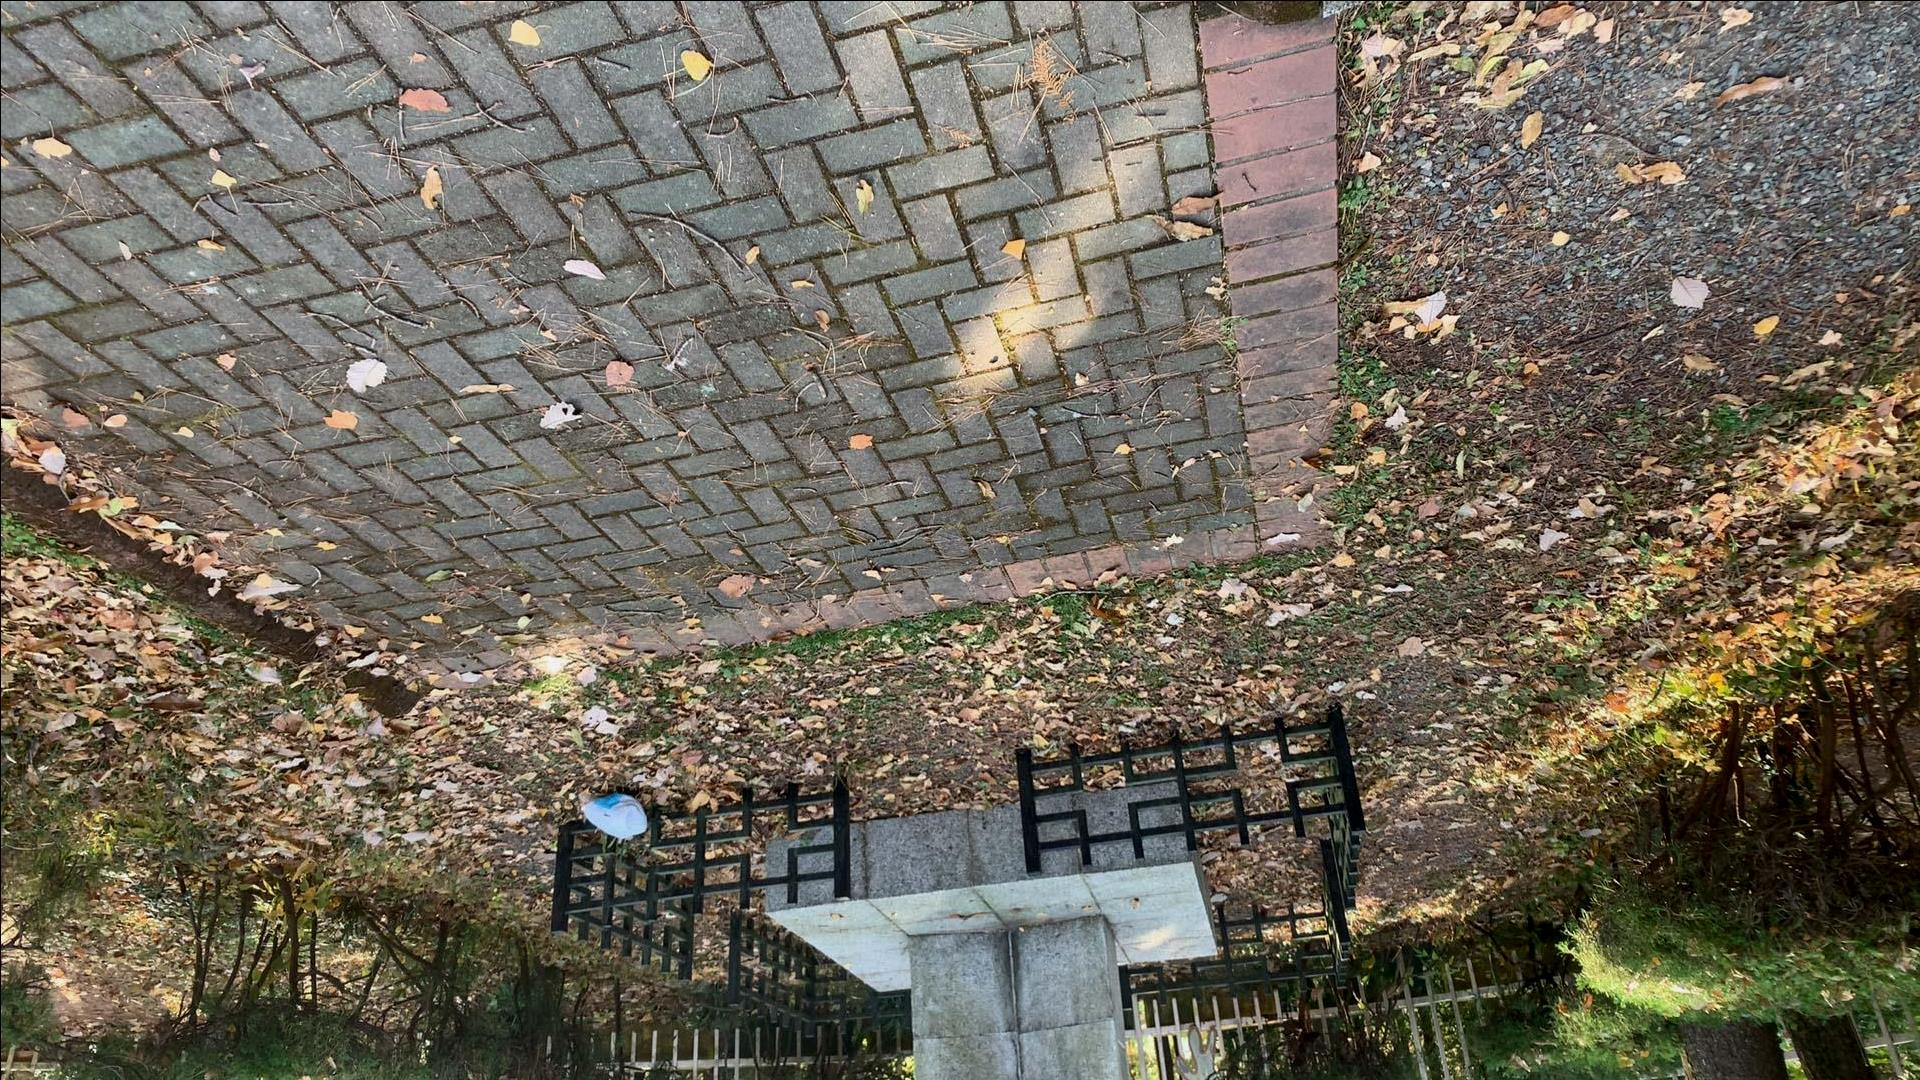white_bag: (574, 781, 655, 848)
